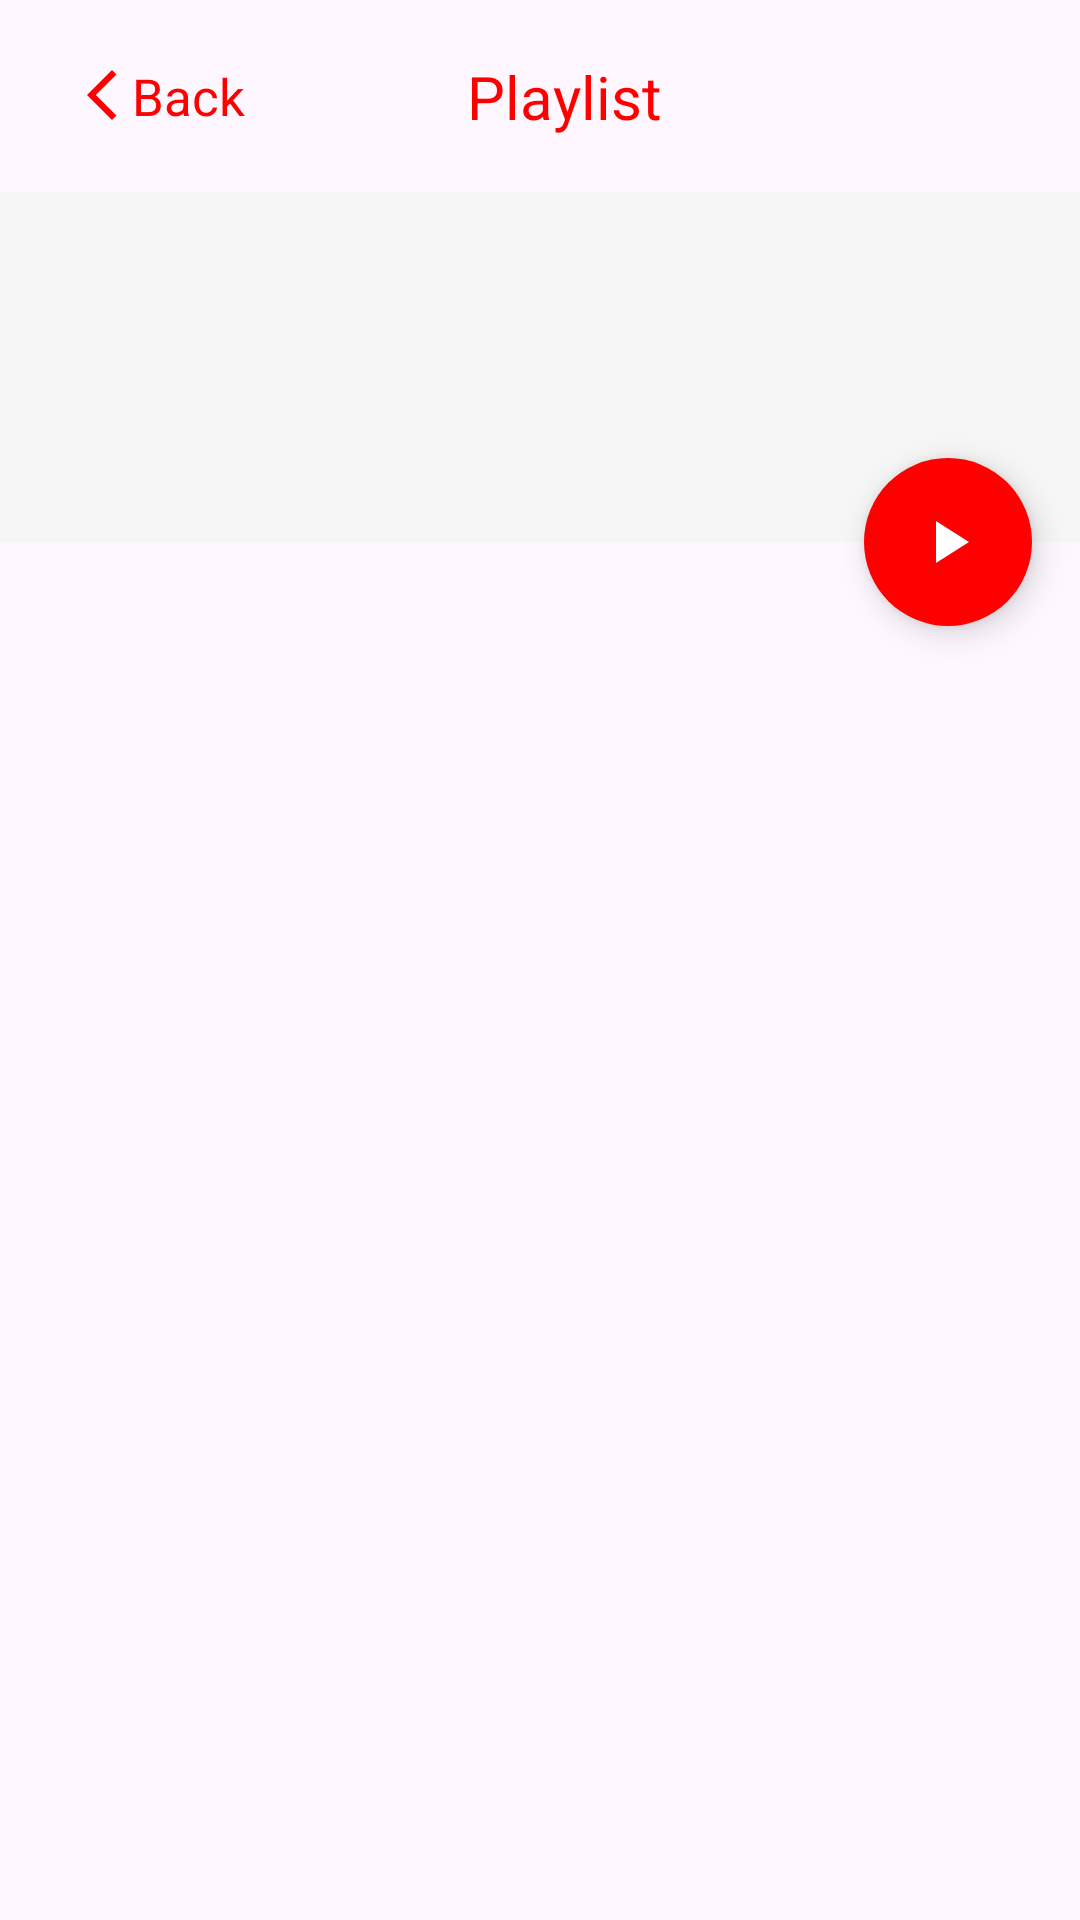

Where to tap for icons on this 1080x1920 app screen, as [x,y]:
play arrow: [948,542]
